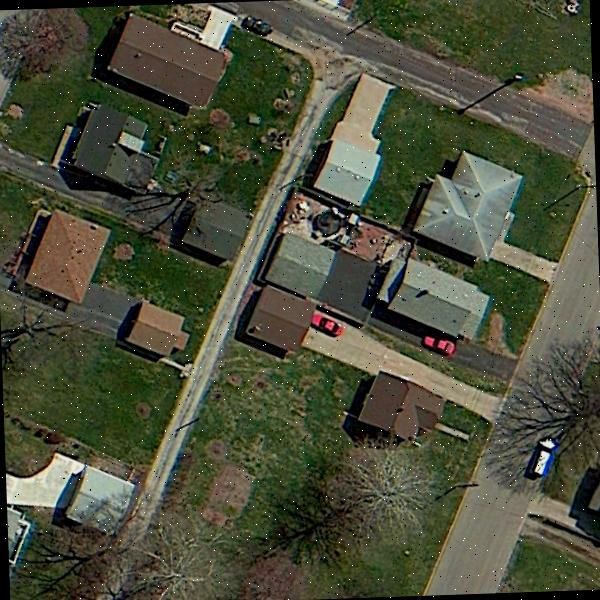Buildings: (119, 22, 222, 111), (424, 138, 510, 242), (388, 248, 474, 334), (72, 88, 140, 186), (22, 216, 103, 293), (360, 375, 444, 428), (66, 458, 132, 519), (129, 300, 186, 358), (256, 288, 308, 343), (195, 209, 249, 252), (272, 245, 321, 288), (328, 152, 369, 198)
